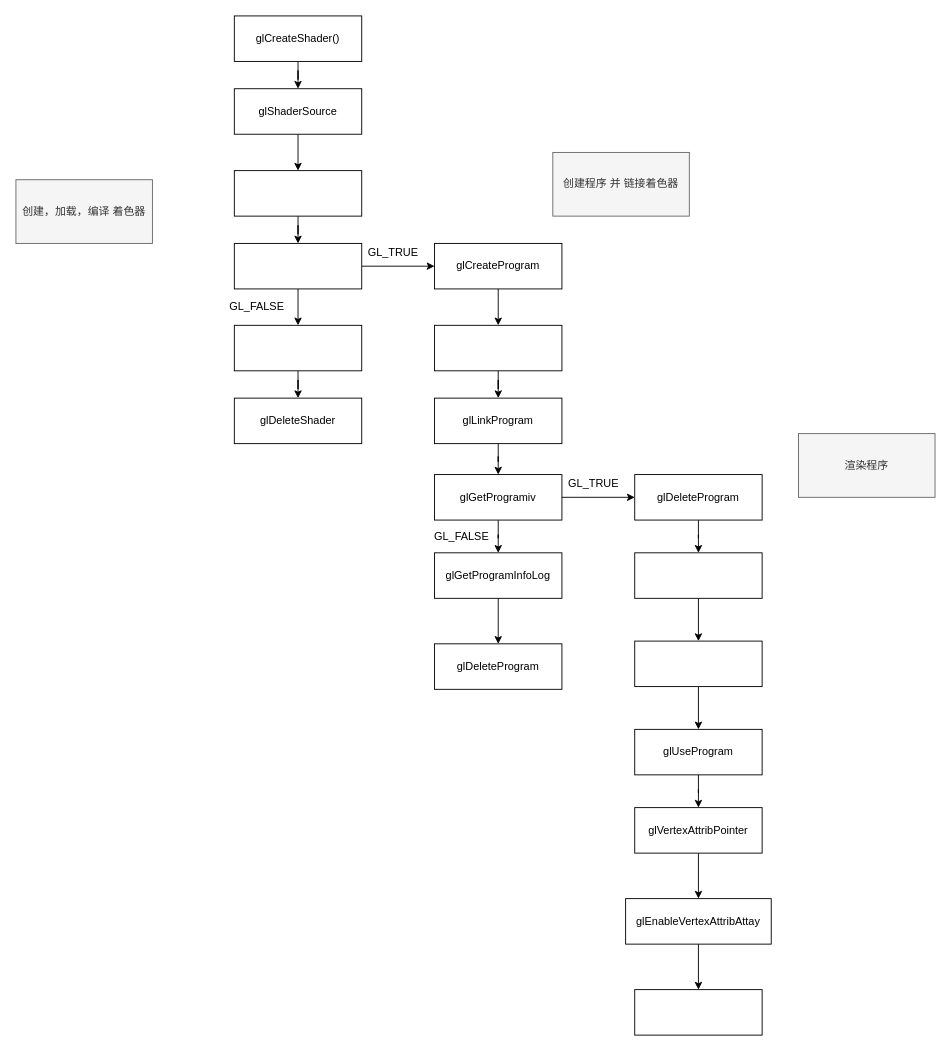
Some shapes in this 951 by 1051 pixel diagram are drawn without their labels. The shapes that lost their labels are listed below. From the top down, each one's centre as x and y in pixels, then its label:
At pixel 297 193: "glCompileShader".
At pixel 297 266: "glGetShaderiv".
At pixel 297 347: "glGetShaderInfoLog".
At pixel 498 347: "glAttachShader".
At pixel 698 575: "glViewport".
At pixel 698 663: "glClean".
At pixel 698 1012: "glDrawArrays".
